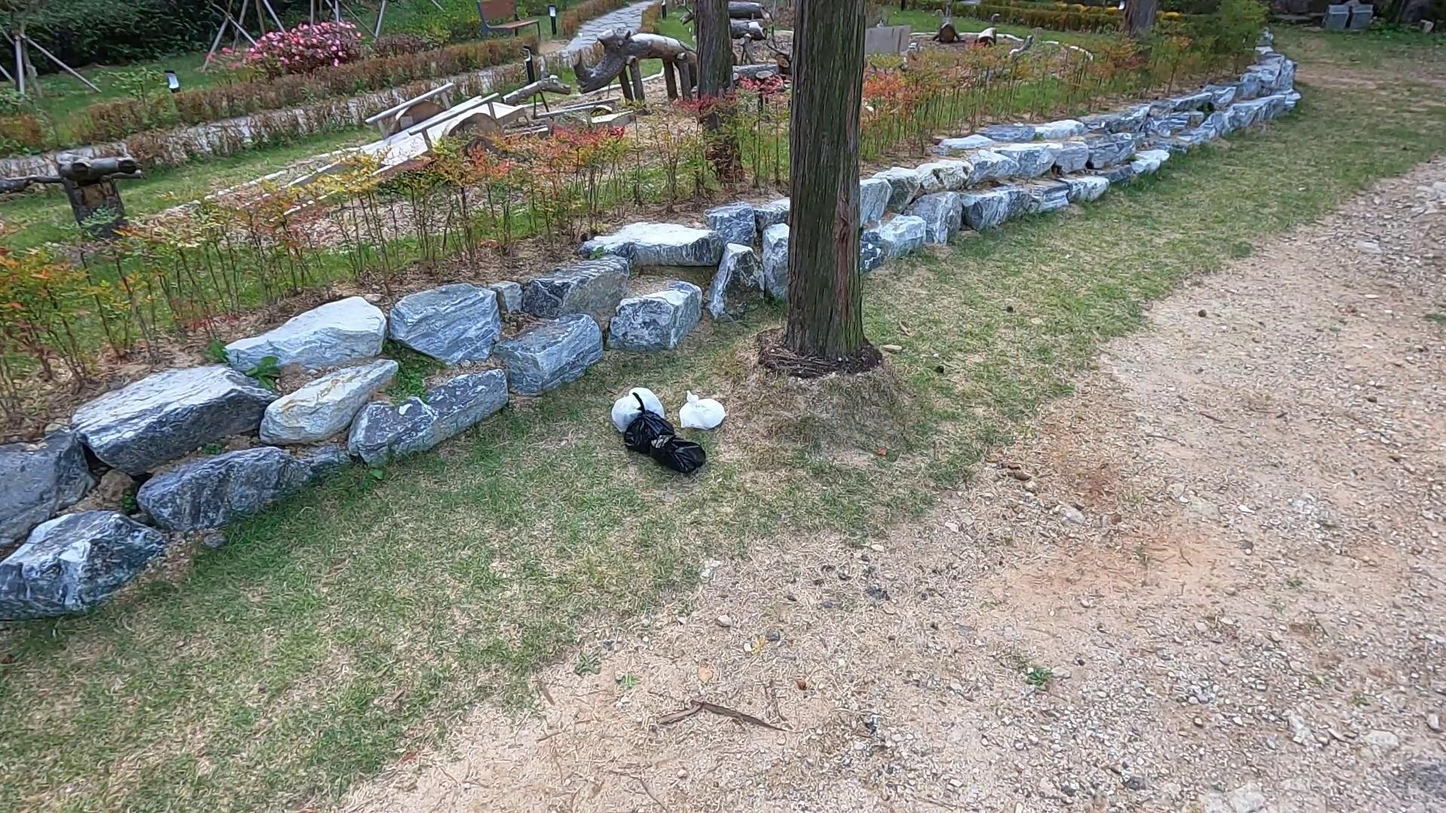trash: (609, 382, 667, 440), (622, 395, 675, 456), (643, 430, 705, 477), (677, 391, 724, 433)
